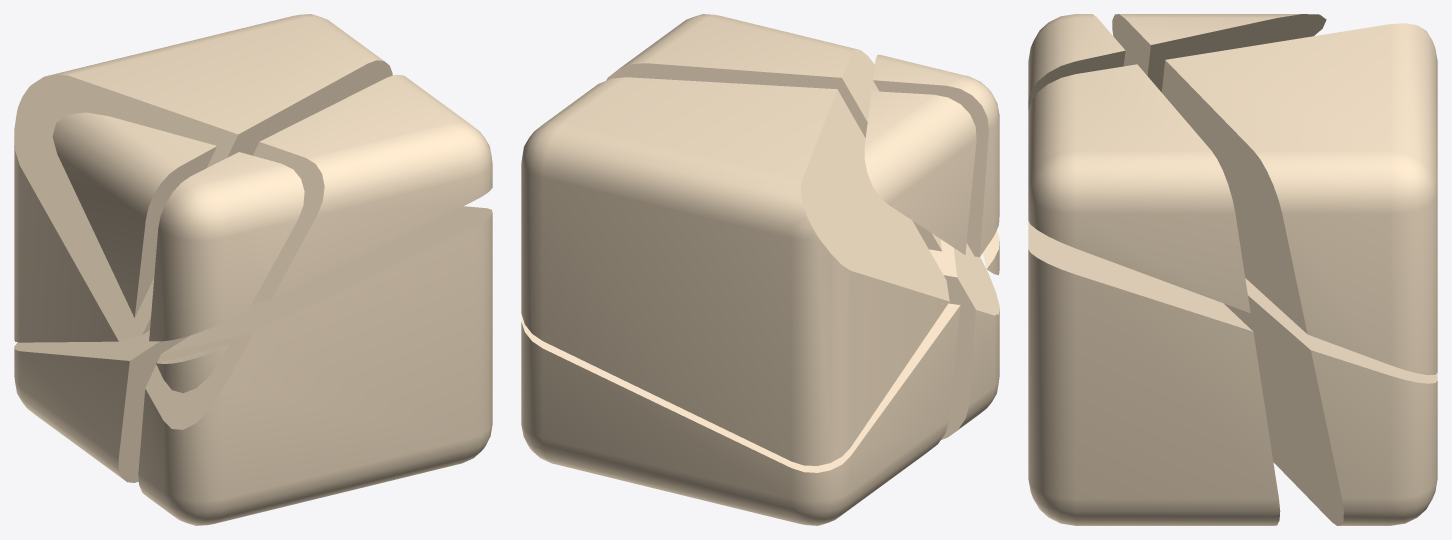
Rendered from rasryhenniblok1.fbx.
3 views of the same model, side by side, from view 1: azimuth 30°, elevation 25°; view 2: azimuth 150°, elevation 25°; view 3: azimuth 270°, elevation 25° (orthographic). The views are drawn at different scales.
Parts seen in each view (by area): view 1: Cube.031; view 2: Cube.031; view 3: Cube.031.
Part boxes in pixels (x1,y1,x2,y2): Cube.031: (14,14,492,525); Cube.031: (521,14,999,525); Cube.031: (1028,14,1437,525).
Bounding box in the file's own units: 2 × 2 × 2.
